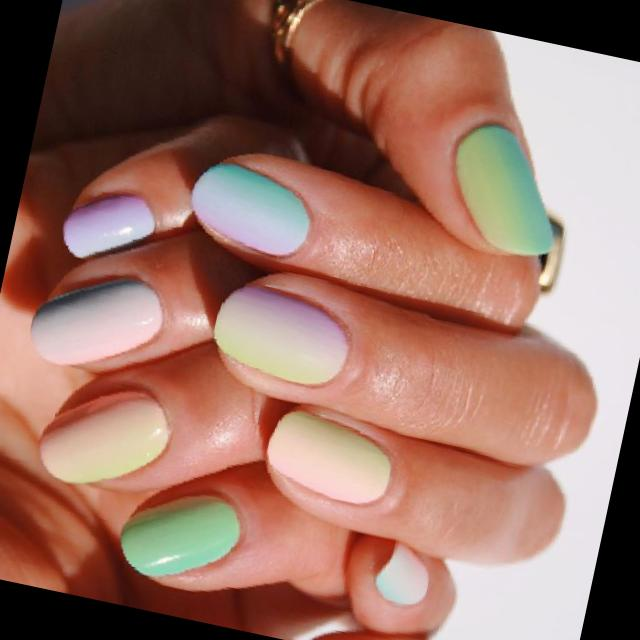Nail: (212, 284, 348, 384), (454, 124, 551, 254), (39, 390, 169, 482), (266, 410, 390, 503), (30, 279, 165, 363), (190, 162, 309, 255), (119, 494, 239, 576), (62, 194, 155, 257), (374, 542, 428, 605)
